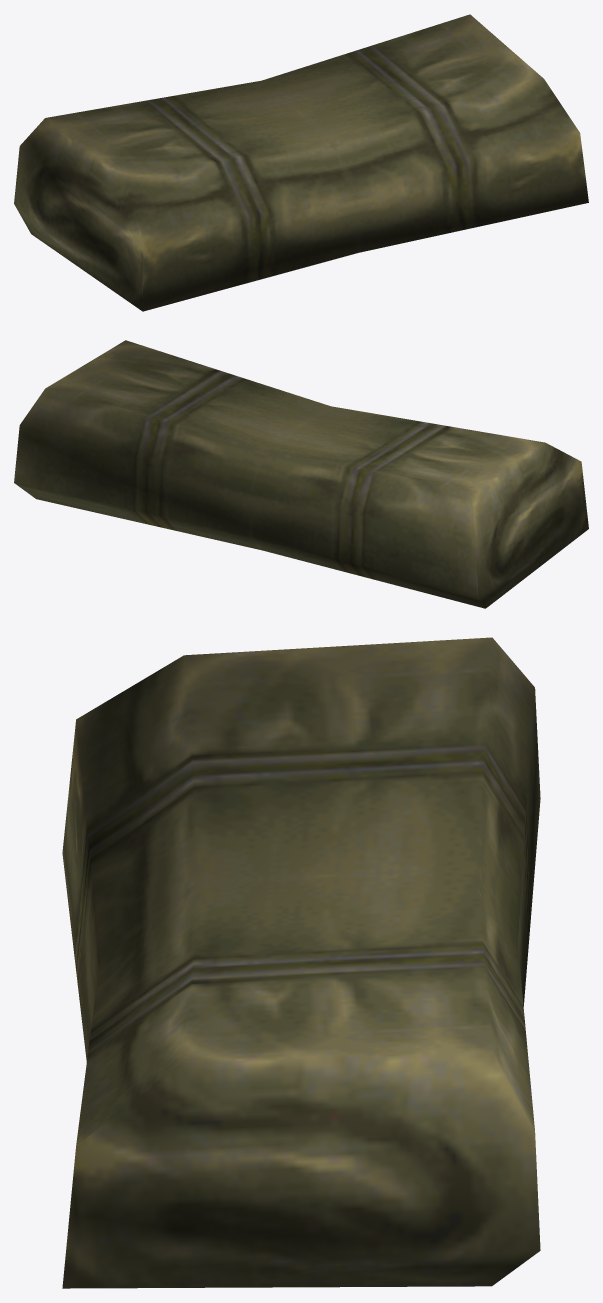
The model's file is 5011_Item_beizi_01.FBX.
3 renders of one model, top to bottom at view 1: azimuth 30°, elevation 25°; view 2: azimuth 150°, elevation 25°; view 3: azimuth 270°, elevation 25°, orthographic. The views are drawn at different scales.
Parts seen in each view (by area): view 1: 5011_Item_beizi_01; view 2: 5011_Item_beizi_01; view 3: 5011_Item_beizi_01.
Boxes of the visible parts, x1,y1,x2,y2 form: 5011_Item_beizi_01: [14, 14, 588, 311]; 5011_Item_beizi_01: [14, 340, 588, 608]; 5011_Item_beizi_01: [62, 637, 540, 1288].
Bounding box in the file's own units: 2022 × 470 × 904.
